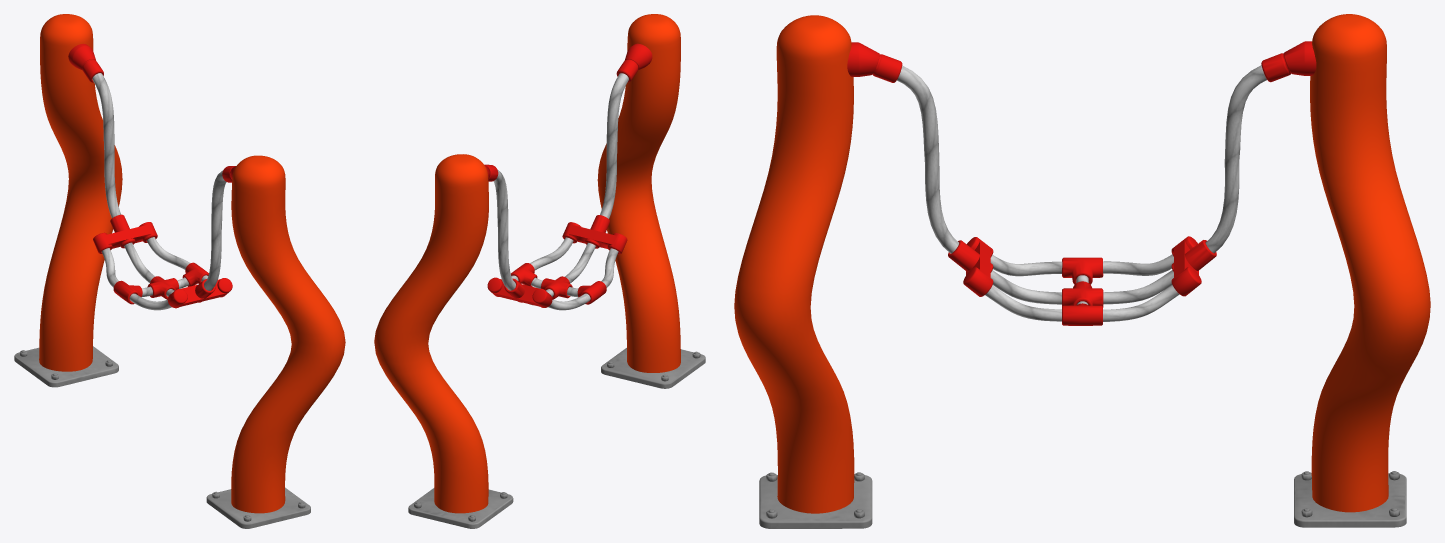
File: the_modern_swing_7c561f8a.fbx
3 views of the same model, side by side, from view 1: azimuth 30°, elevation 25°; view 2: azimuth 150°, elevation 25°; view 3: azimuth 270°, elevation 25° (orthographic). The views are drawn at different scales.
Parts seen in each view (by area): view 1: the_modern_swing_7c561f8a; view 2: the_modern_swing_7c561f8a; view 3: the_modern_swing_7c561f8a.
Part boxes in pixels (x1,y1,x2,y2): the_modern_swing_7c561f8a: (14, 14, 345, 528); the_modern_swing_7c561f8a: (374, 14, 705, 528); the_modern_swing_7c561f8a: (734, 14, 1430, 528).
Bounding box in the file's own units: 0.4477 × 1.35 × 1.75.
4 materials, 2 textured.
